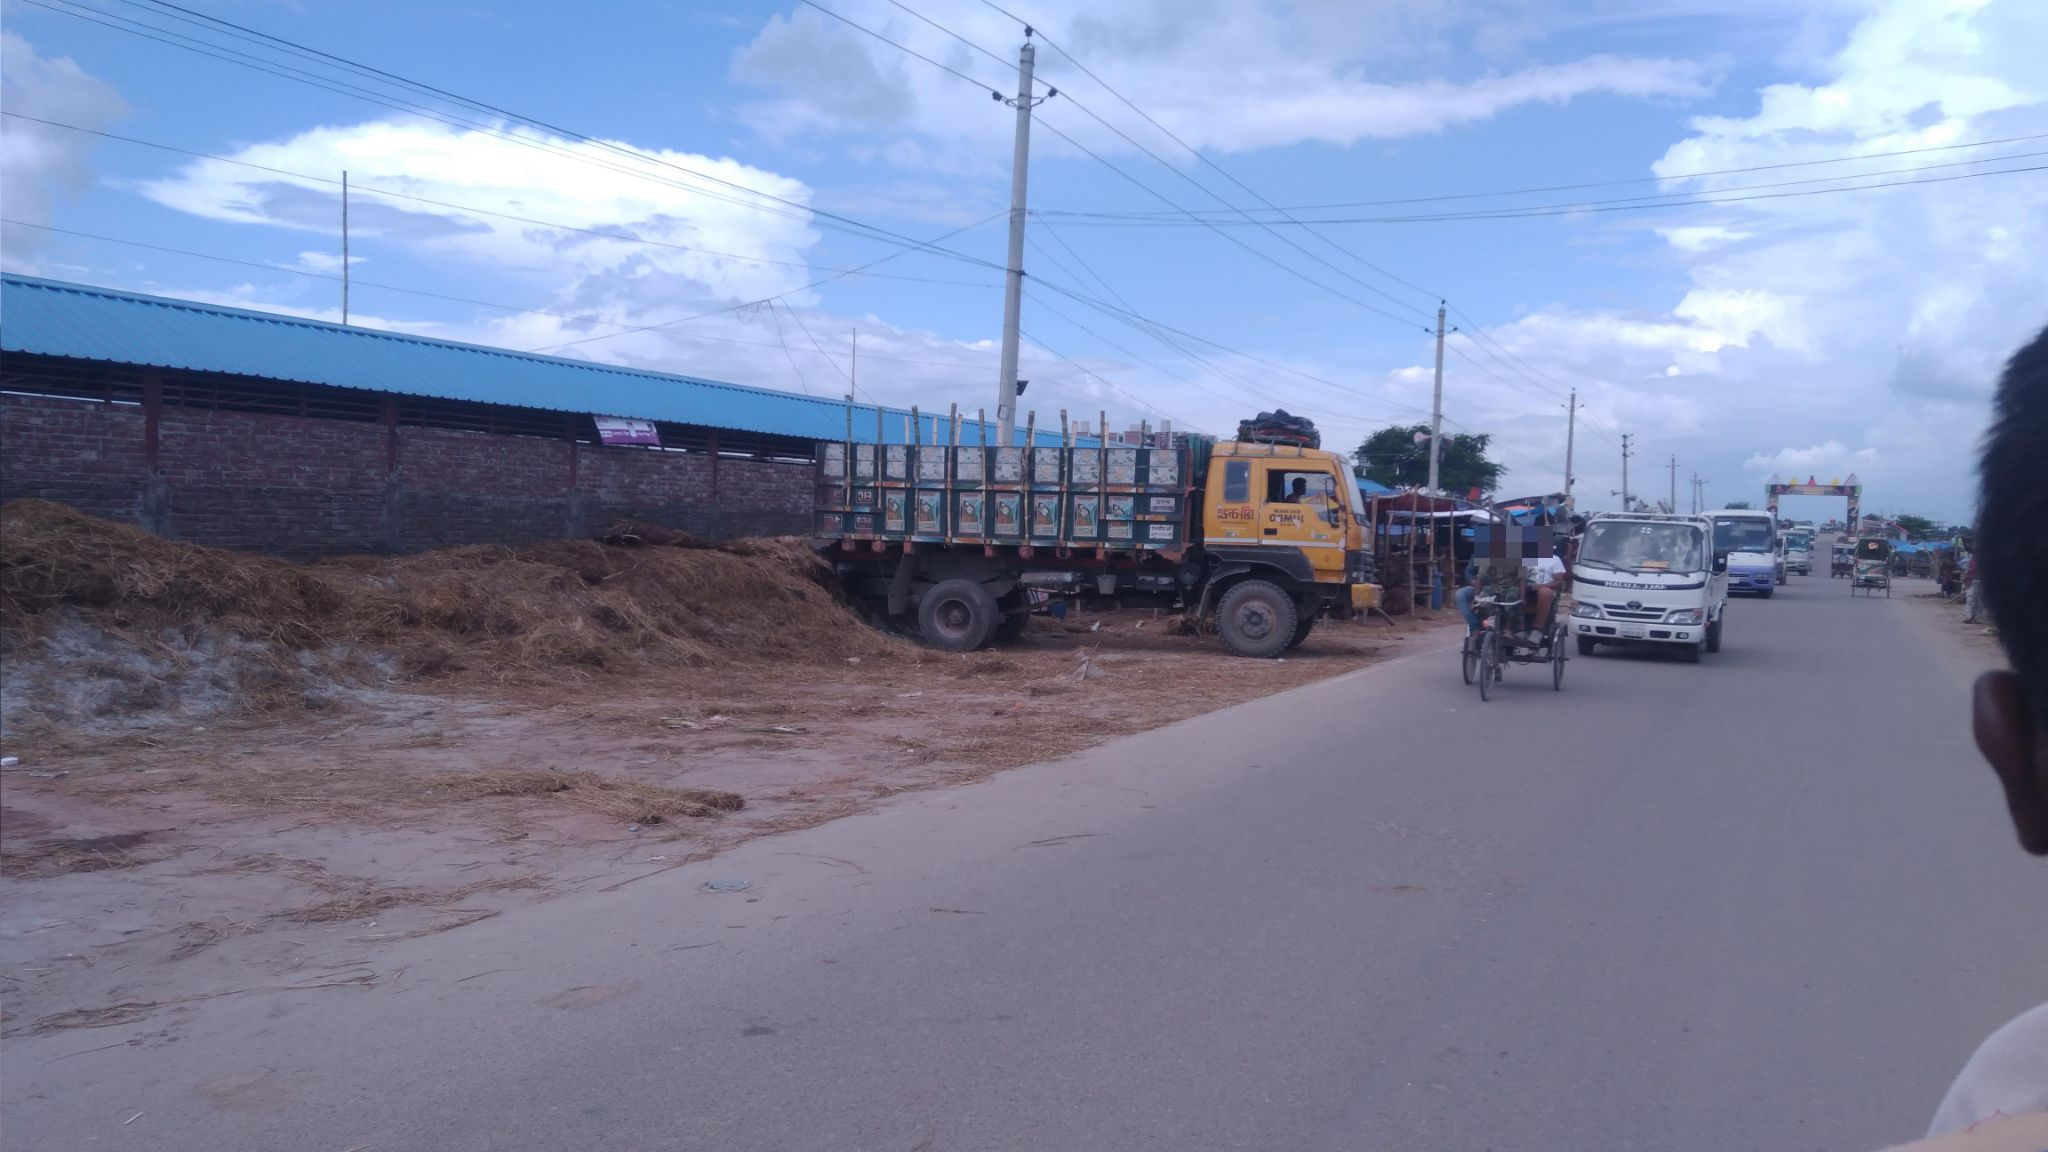car: (1574, 511, 1724, 651), (1712, 502, 1782, 601), (1779, 523, 1816, 581)
easybike: (1831, 542, 1857, 580)
rickshaw: (1463, 556, 1566, 702), (1852, 536, 1890, 601)
truck: (816, 415, 1390, 664)
